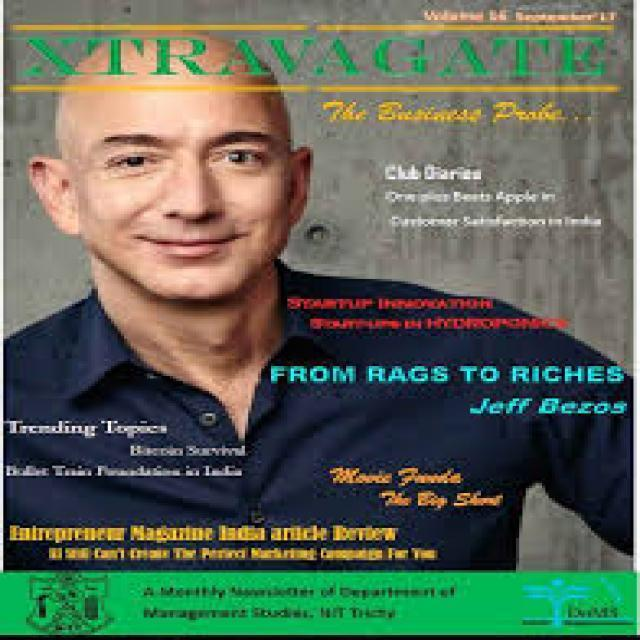paper: (2, 1, 636, 631)
